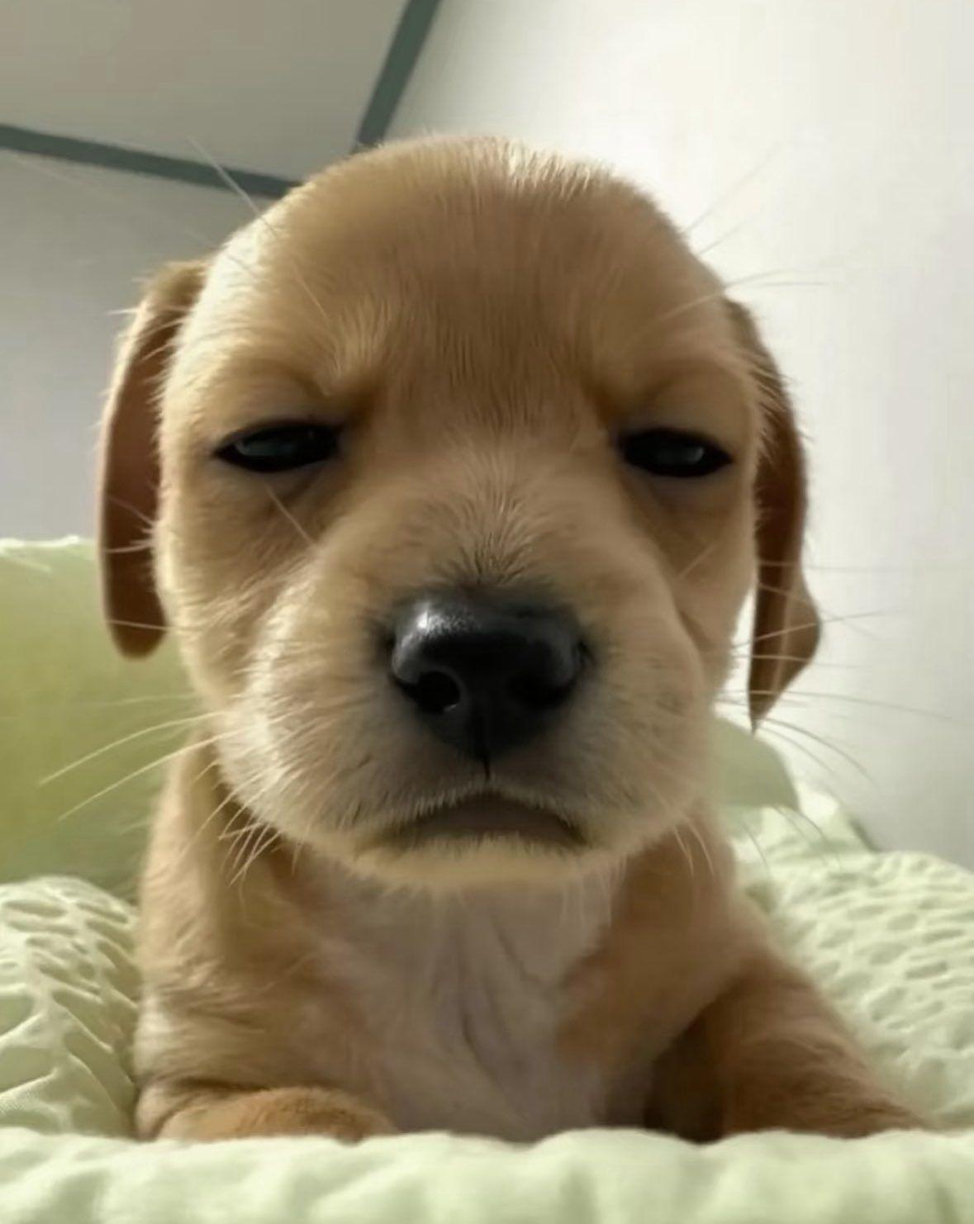puppy-dog: (86, 128, 934, 1150)
